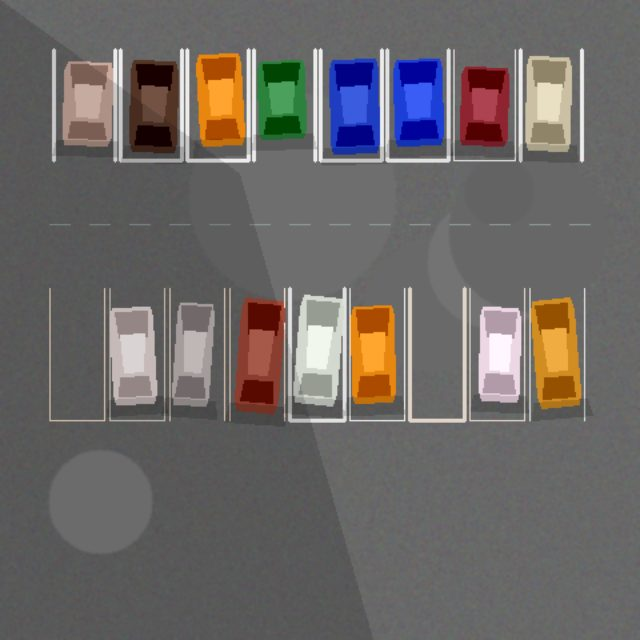space-empty: (49, 288, 104, 420), (409, 288, 464, 420)
space-occupied: (109, 288, 164, 420), (169, 288, 224, 420), (229, 288, 284, 420), (289, 288, 344, 420), (349, 288, 404, 420), (469, 288, 524, 420), (529, 288, 584, 420), (53, 49, 115, 160), (253, 49, 315, 160), (453, 49, 515, 160), (120, 49, 181, 160), (187, 49, 248, 160), (320, 49, 381, 160), (387, 49, 448, 160), (520, 49, 581, 160)
